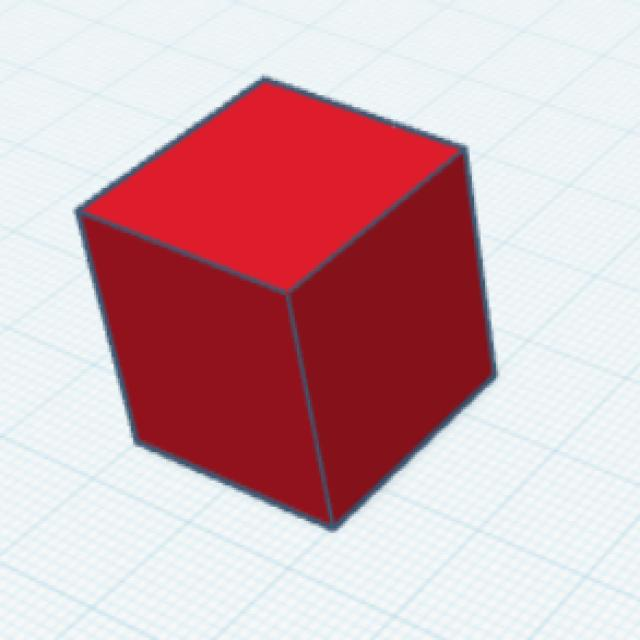cube: (69, 72, 502, 536)
